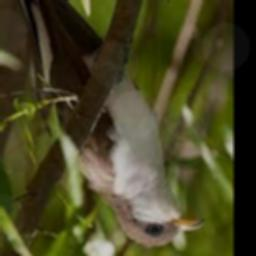Cuckoo: (1, 0, 205, 248)
